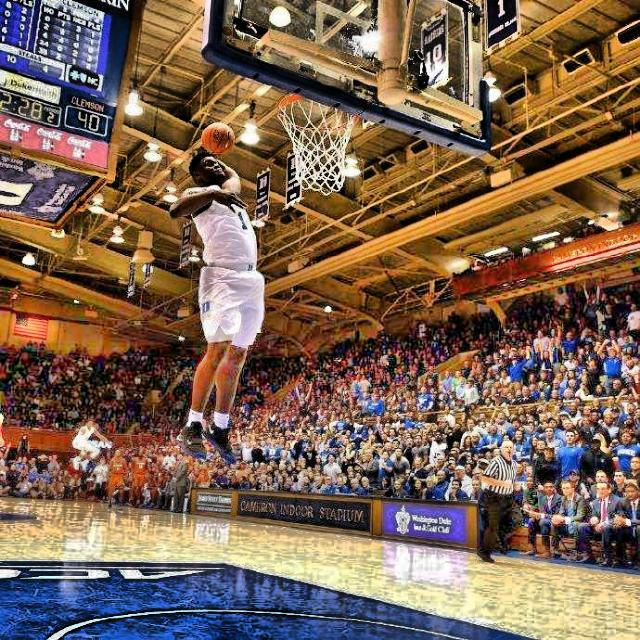board: (203, 122, 235, 153)
rim: (278, 91, 361, 193)
